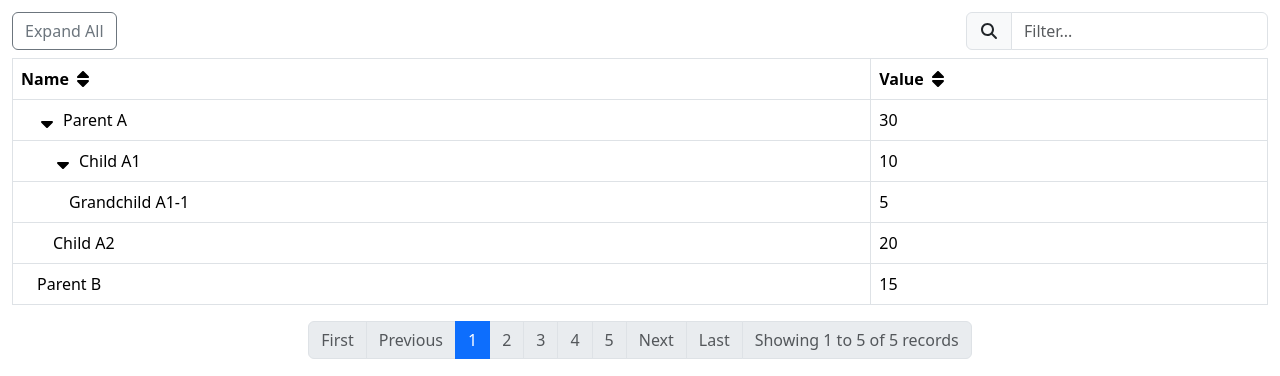
Scenario: BootstrapTreeTable (final production version) › clearing filter restores rows
Type "XYZ" into the field with placeholder "Filter..." at x=1140, y=31, box [1011,12,1268,50]
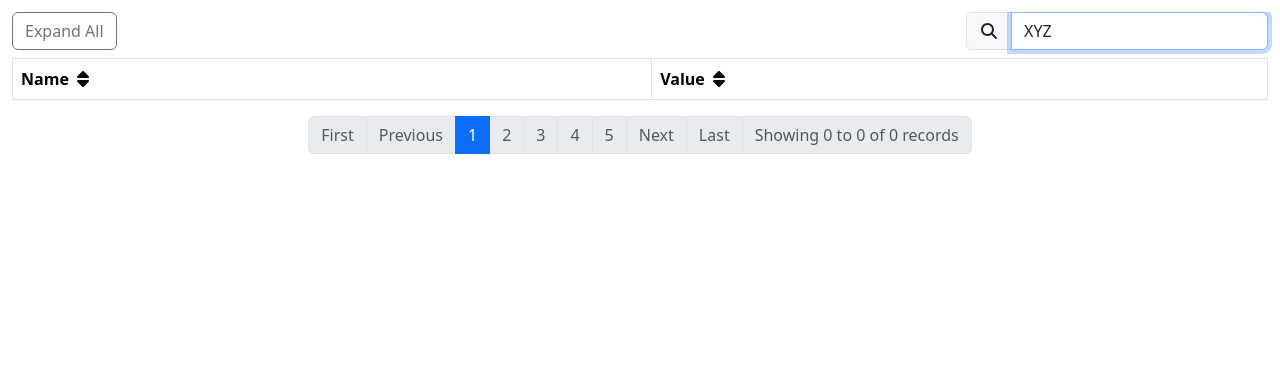
Clear the field with placeholder "Filter..." at x=1140, y=31, box [1011,12,1268,50]
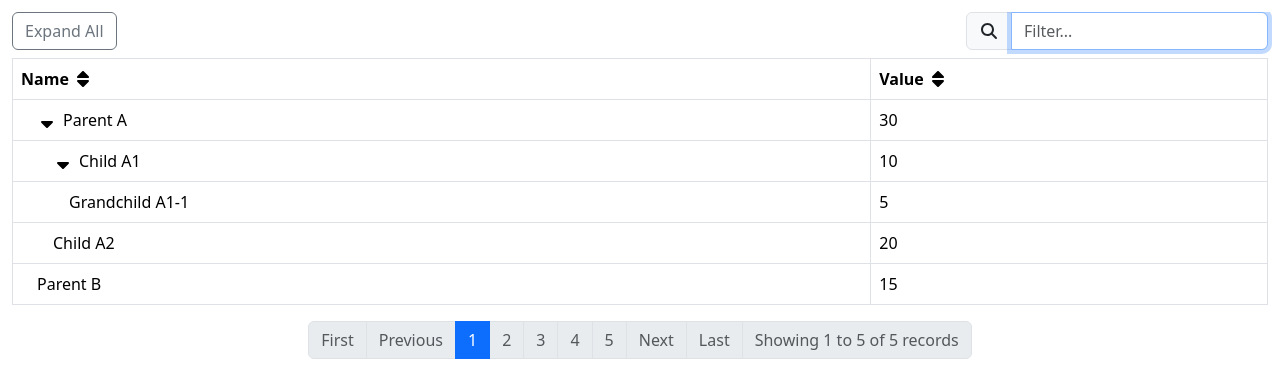
Result: the text "Parent A" is shown at [37,109,127,131]
